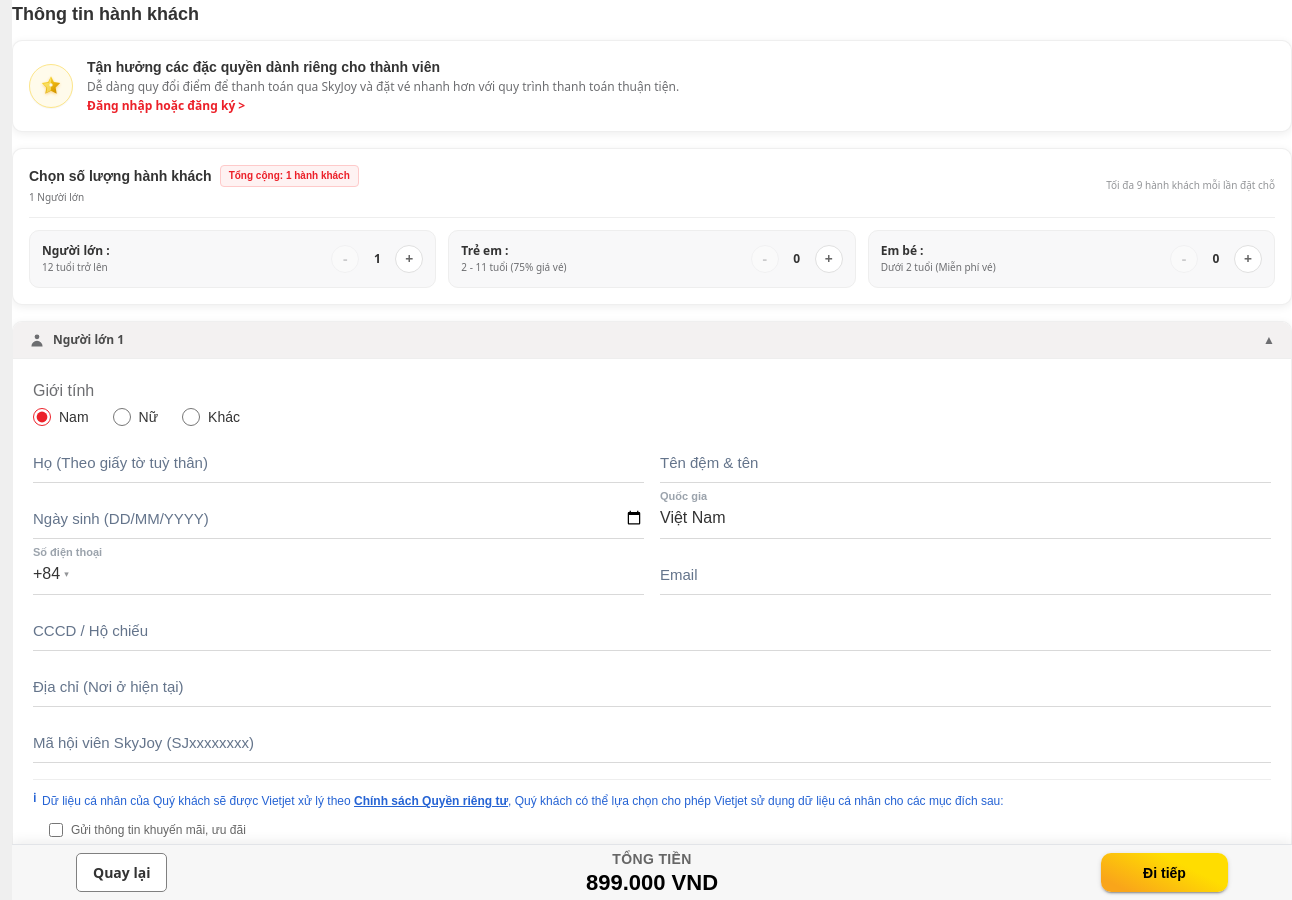
Test: PassengerInfoStep extended contact and consent fields › shows validation messages and submits complete passenger plus policy consent
Later steps or results of the test are not shown.
Type "123" into the field labelled "Số điện thoại" at (360, 574), box [77,558,644,590]
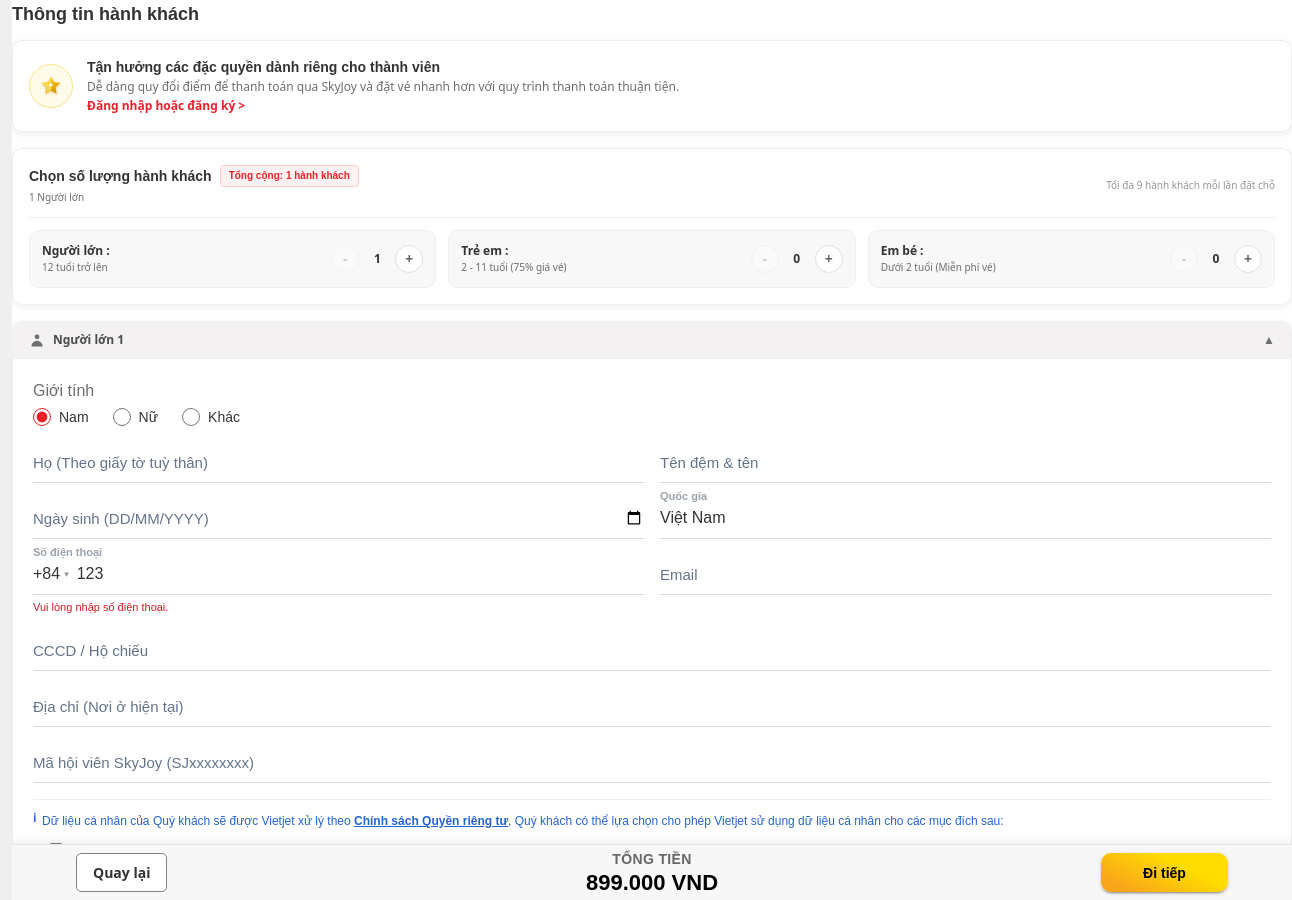
Type "email-invalid" into the field labelled "Email" at (966, 574), box [660,558,1271,590]
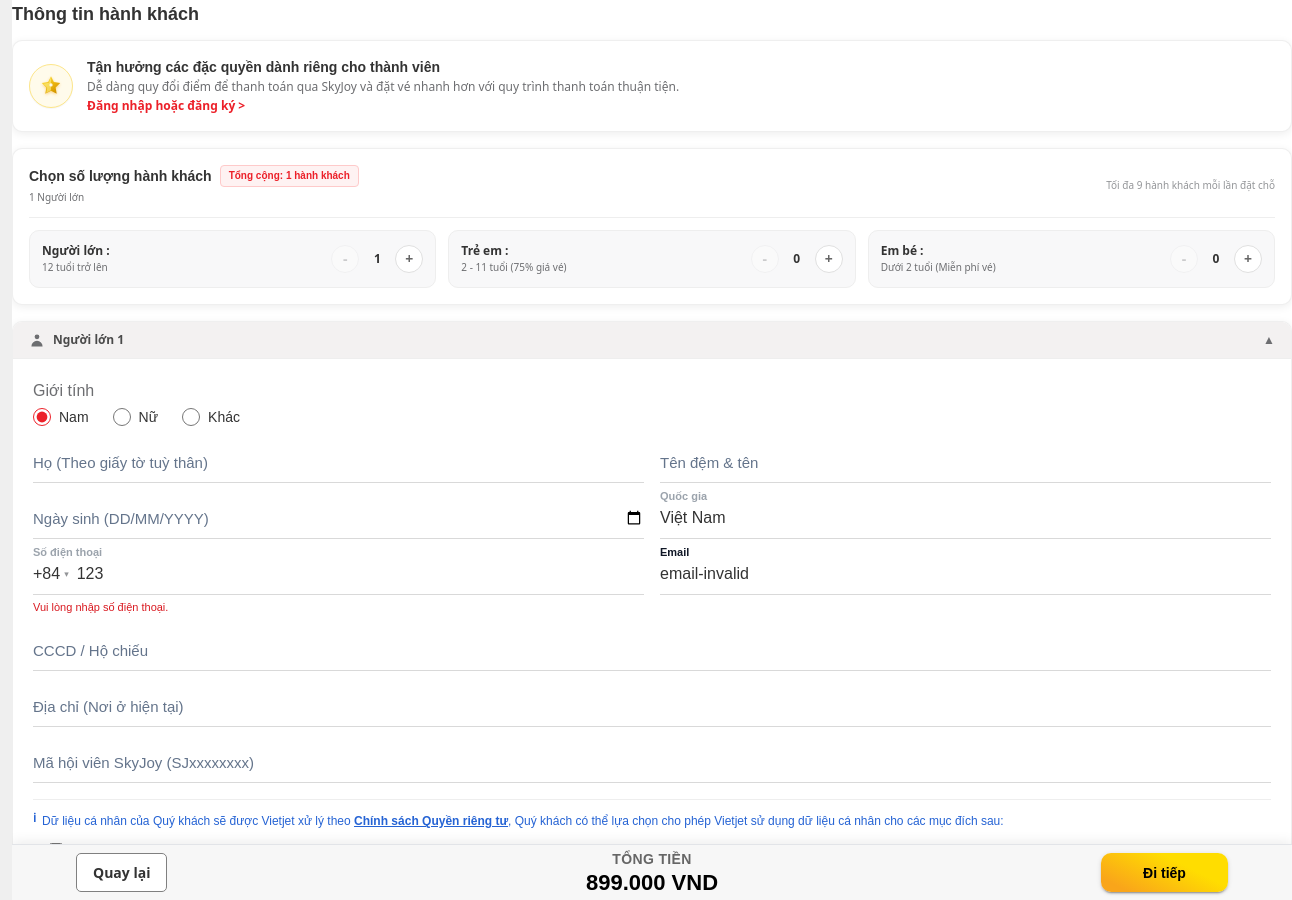
Leave the field labelled "Email", box [660,558,1271,590]
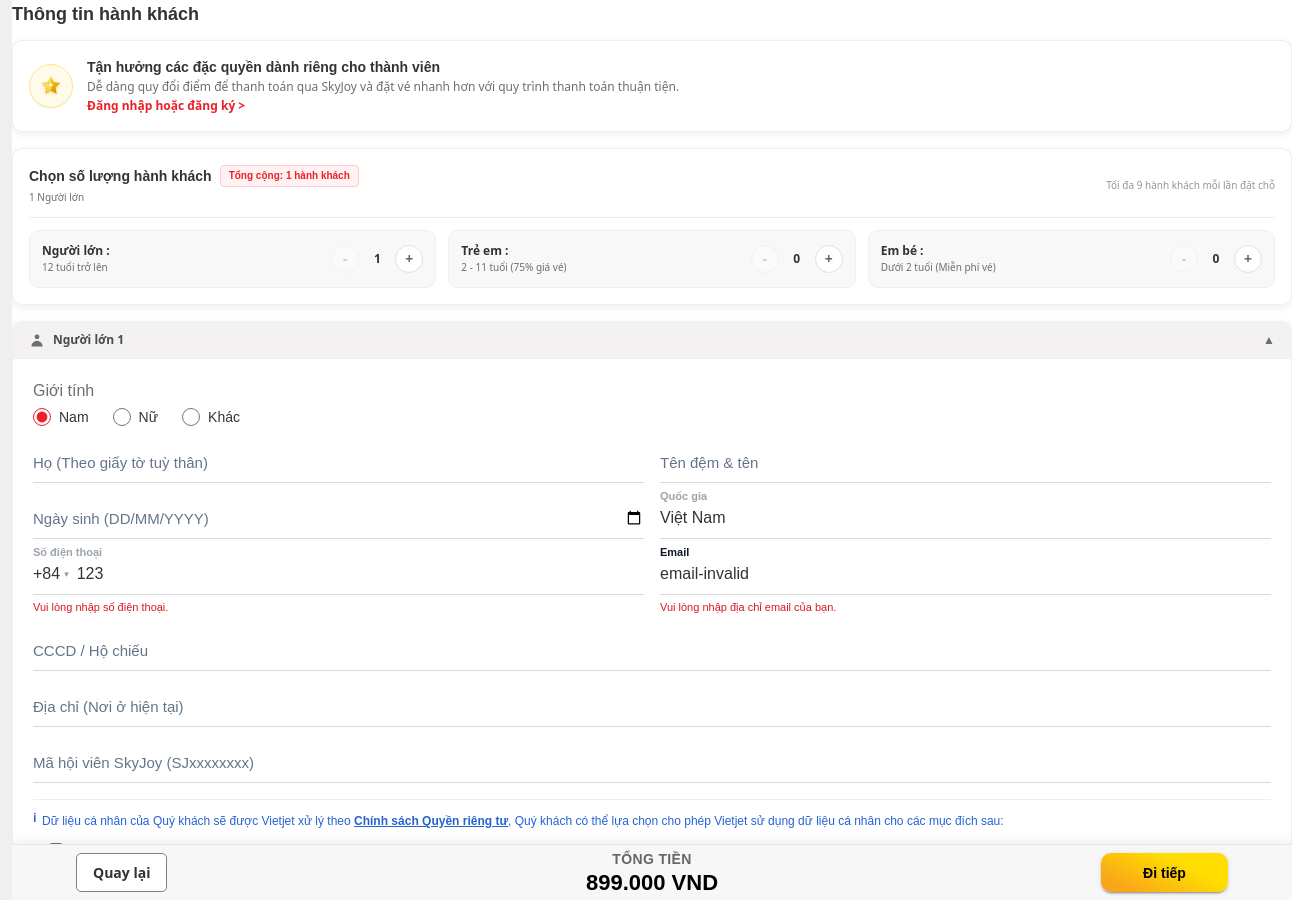
expect the text "Vui lòng nhập số điện thoại." is shown: met, box [33,601,168,613]
expect the text "Vui lòng nhập địa chỉ email của bạn." is shown: met, box [660,601,836,613]
